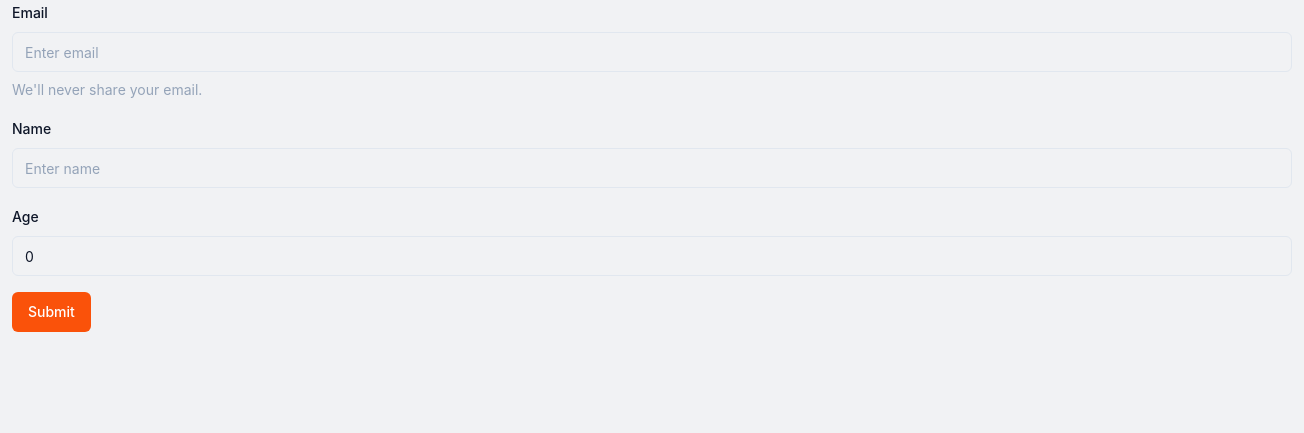
it: Form Components › Form Integration › clears validation errors when data becomes valid
Fill with invalid data first
Step 1. Type "invalid" into the field with placeholder "Enter email" → (652,52), box [12,32,1292,72]
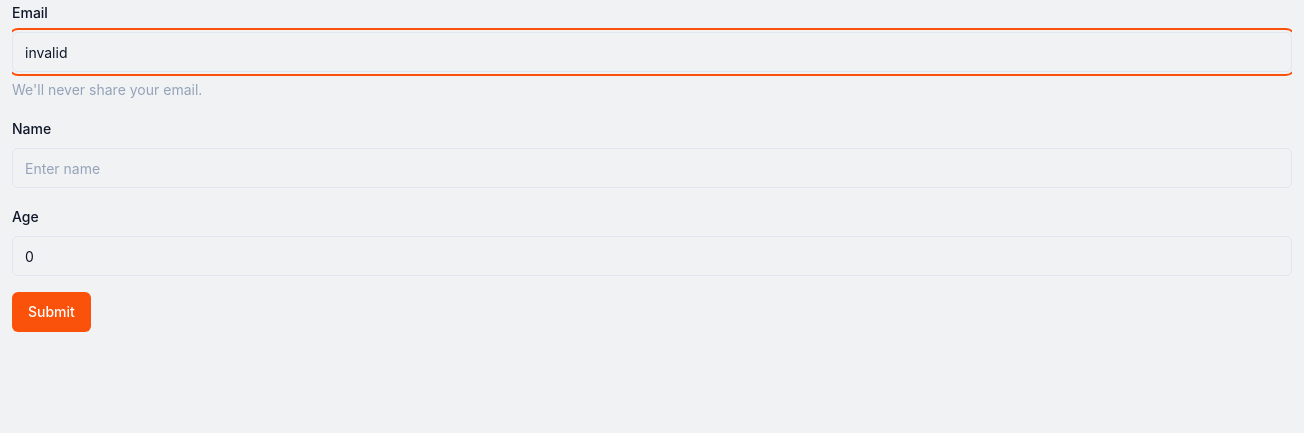
Step 2. Click the button "Submit" → (51,312), box [12,292,91,332]
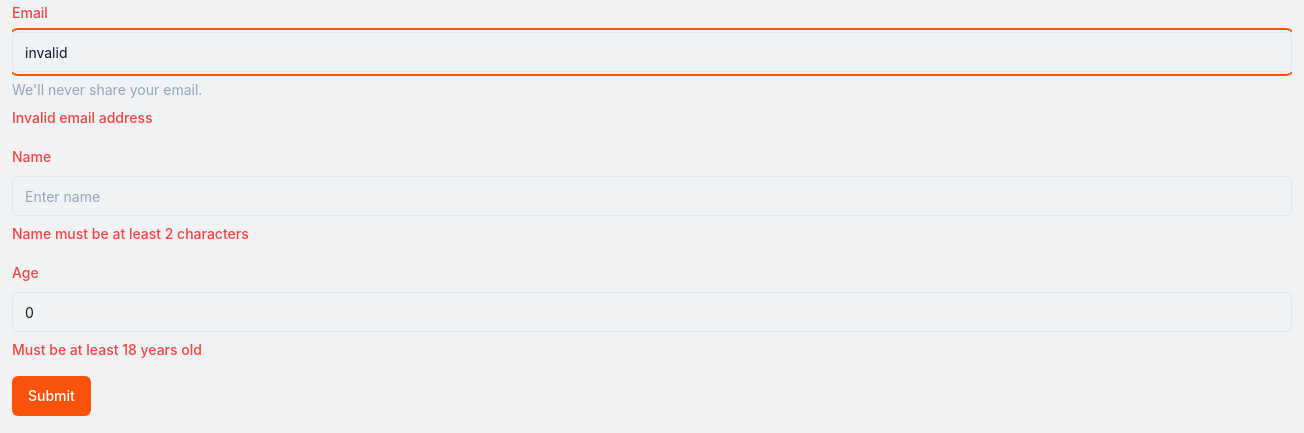
Check: the text "Invalid email address" is shown, box [12,109,152,126]
Fix the email
Step 3. Replace the text in the field with placeholder "Enter email" with "test@example.com" → (652,52), box [12,32,1292,72]
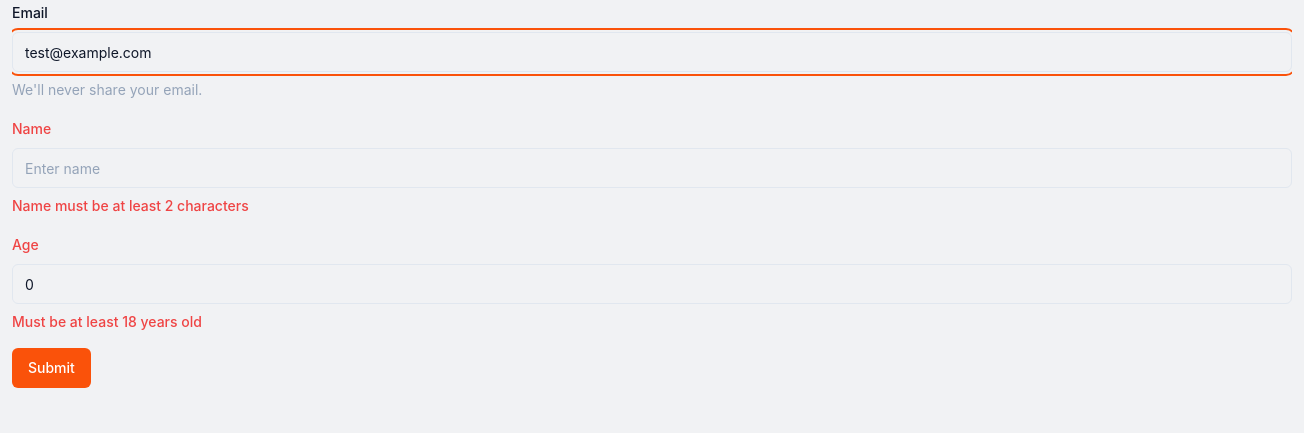
Check: the text "Invalid email address" is gone
